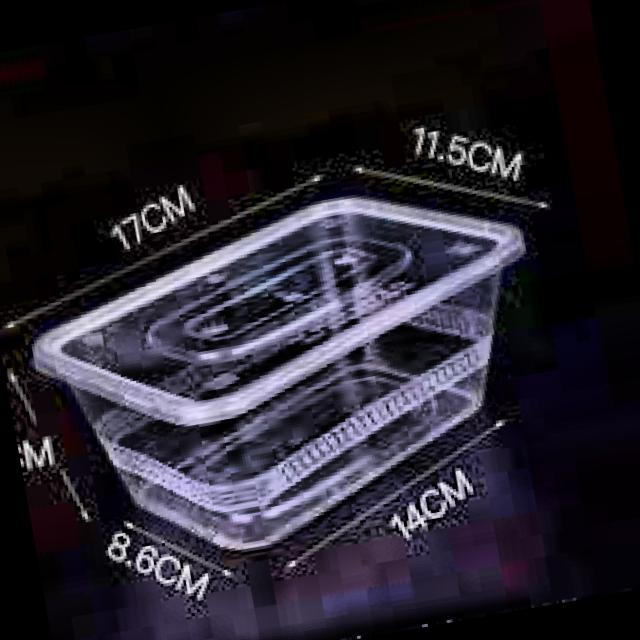plastic container: (35, 197, 525, 547)
